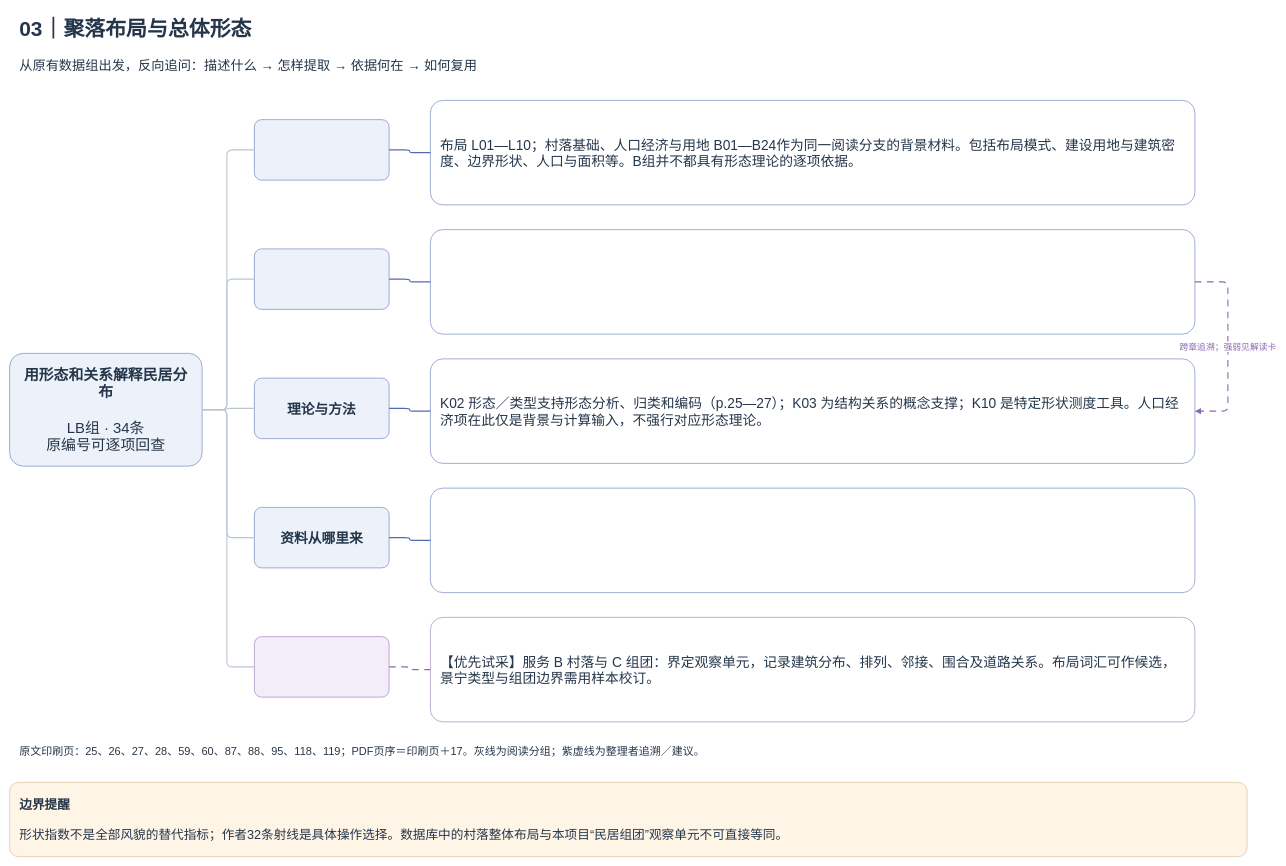
Image size: 1286x866. Some labels were removed from this diagram. Each missing label, with the centre of its shape:
"S01影像规划、S05统计、S07图形及S11图纸分析；具体形状值在第三章展示。逐对象影像日期、分辨率与完整边界数据并未一一提供。" goes at pixel 812 540.
"从平面肌理、道路及建筑组合识别总体布局；以形态类型归类；Boyce–Clark形状指数用边界到中心的射线长度派生计算；面积、人数与密度保留原始量及计算口径。" goes at pixel 812 281.
"我们怎样复用" goes at pixel 321 666.
"数据与特征" goes at pixel 321 149.
"识别与整理" goes at pixel 321 278.
